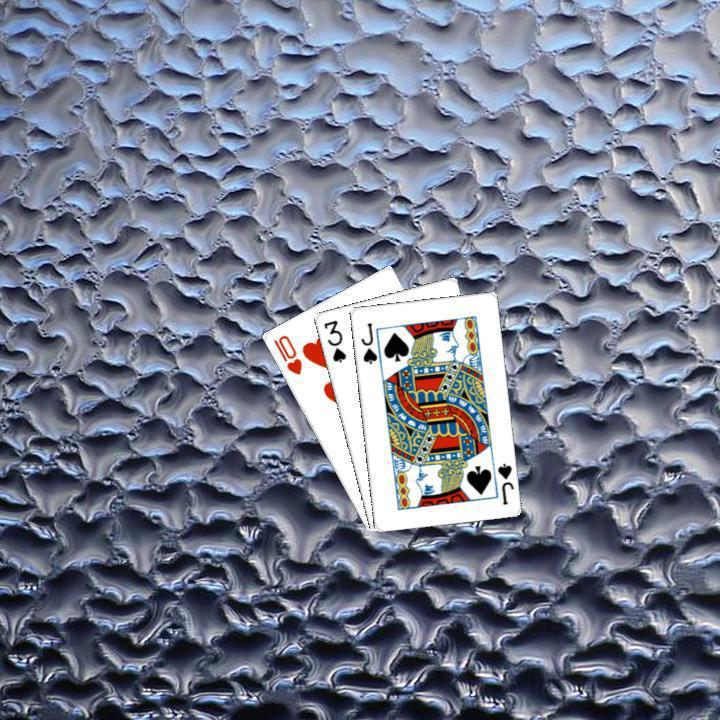10: (269, 331, 304, 377)
3: (319, 315, 348, 364)
J: (356, 318, 379, 366), (493, 459, 515, 506)
